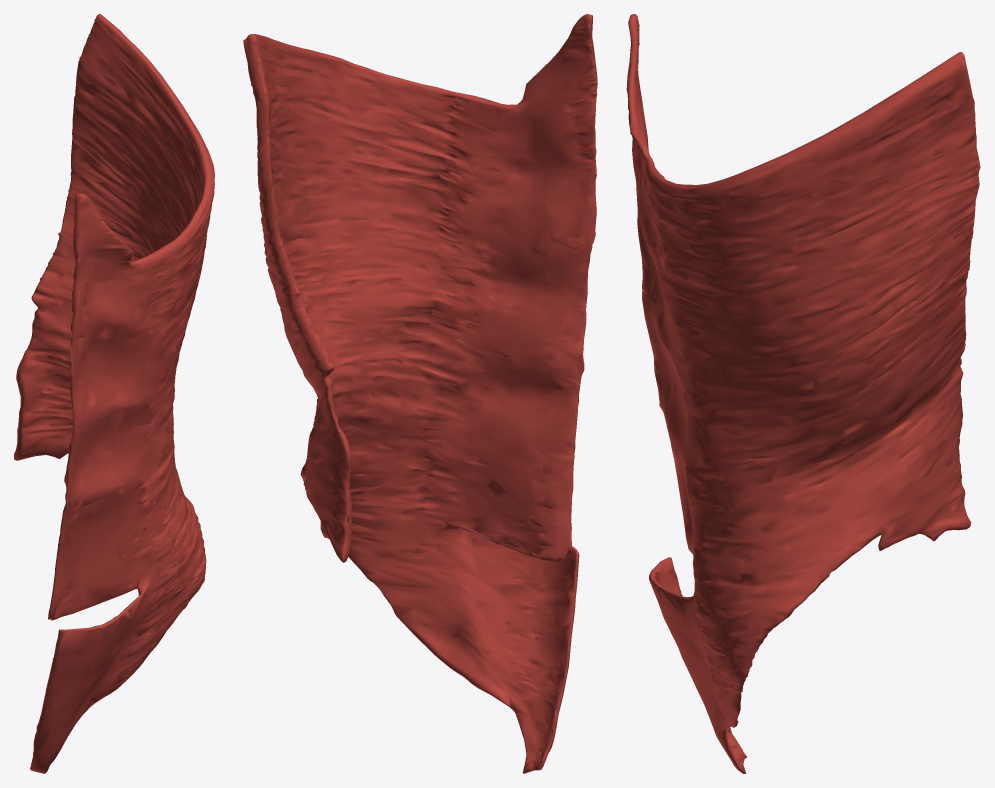
Rendered from musculos-transversus-abdominis-muscle-l.glb.
3 renders of one model, left to right at view 1: azimuth 30°, elevation 25°; view 2: azimuth 150°, elevation 25°; view 3: azimuth 270°, elevation 25°, orthographic. The views are drawn at different scales.
Visible parts, largest first — view 1: Transversus abdominis muscle.l; view 2: Transversus abdominis muscle.l; view 3: Transversus abdominis muscle.l.
Boxes of the visible parts, <box> form: Transversus abdominis muscle.l: <box>14,14,214,773</box>; Transversus abdominis muscle.l: <box>243,14,597,773</box>; Transversus abdominis muscle.l: <box>626,14,980,773</box>.
Bounding box in the file's own units: 0.1295 × 0.4211 × 0.1674.
